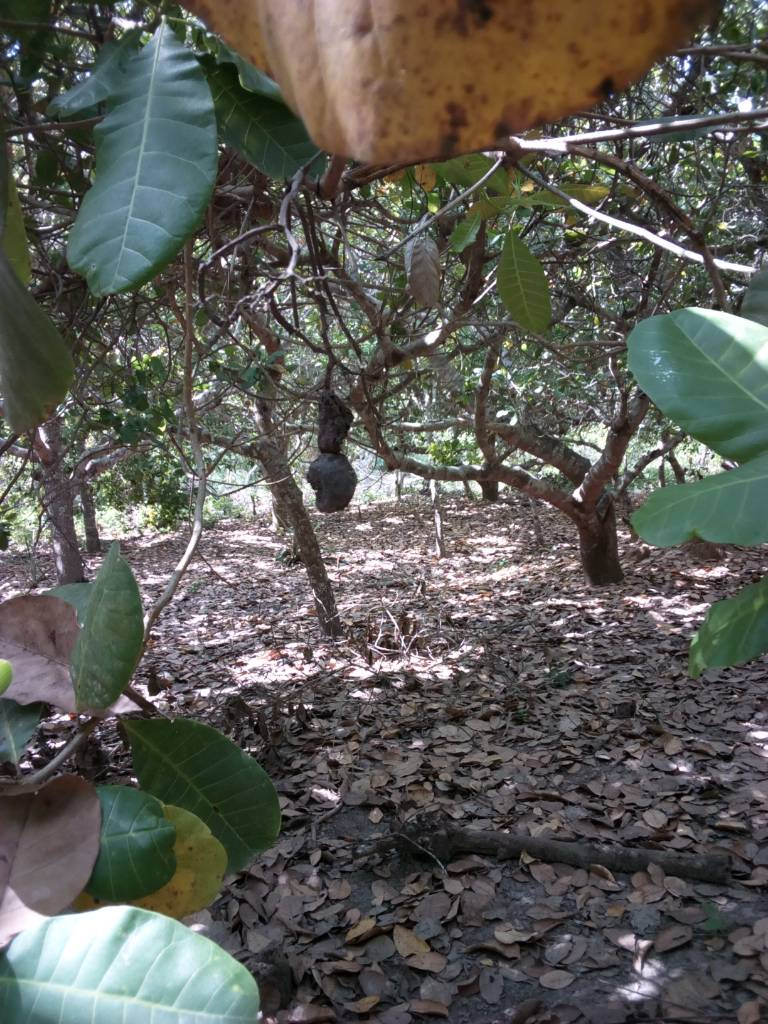Die-black: (279, 384, 374, 522)
